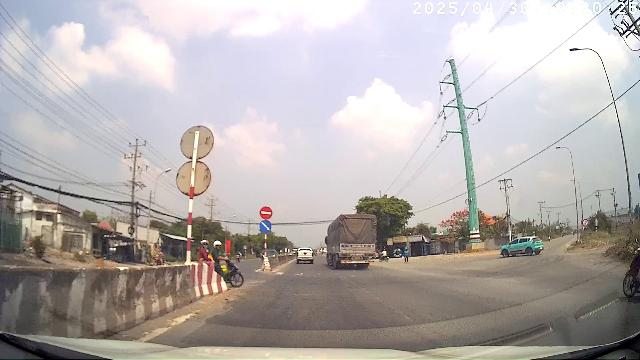102-cam-di-nguoc-chieu: (260, 206, 272, 219)
302a-huong-phai-di-vong-chuong-ngai-vat-1: (259, 219, 272, 233)
